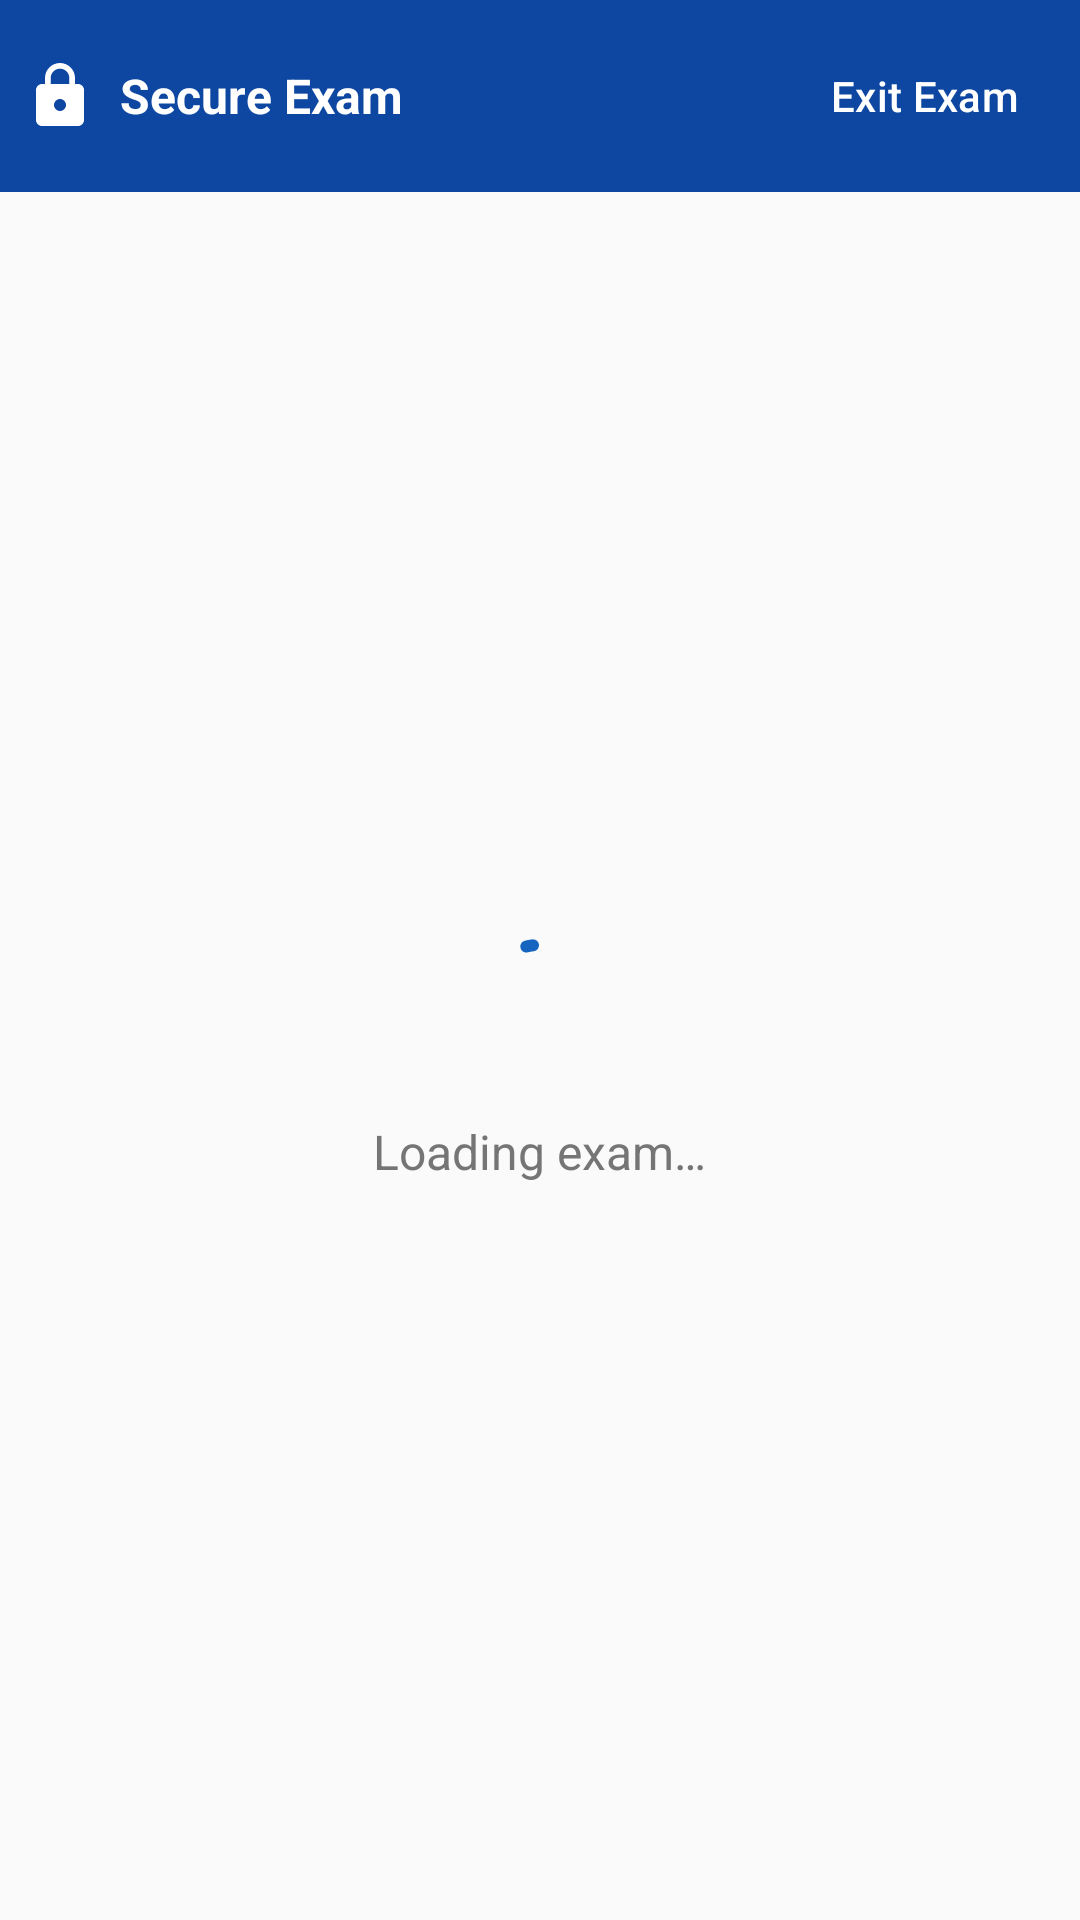

Icons on this 1080 x 1920 Android screen, each with its box as bbox(x1, y1, x2, y2):
Exam Mode Active: bbox(36, 63, 84, 126)
